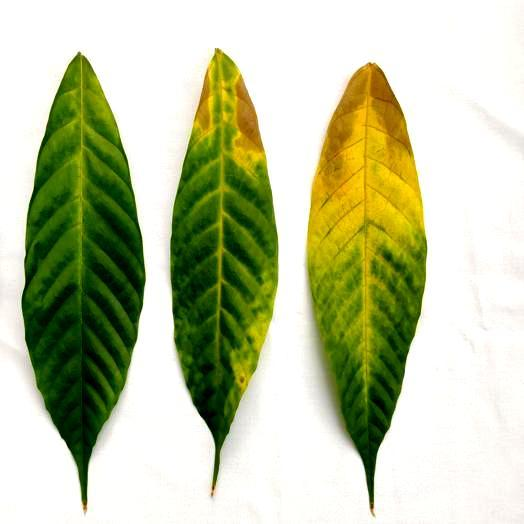Healthy Leaf: (22, 53, 144, 509)
Potassium: (307, 64, 426, 513), (170, 49, 277, 491)
